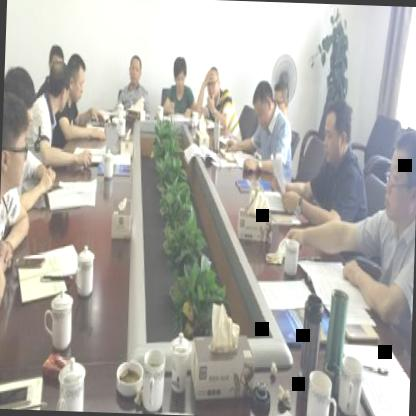head: (0, 86, 36, 195), (381, 138, 416, 224), (2, 58, 38, 132), (321, 97, 355, 173), (46, 61, 72, 120), (62, 53, 87, 110), (251, 78, 276, 128), (204, 60, 222, 104), (172, 54, 190, 96), (272, 80, 291, 116), (128, 50, 142, 86)
